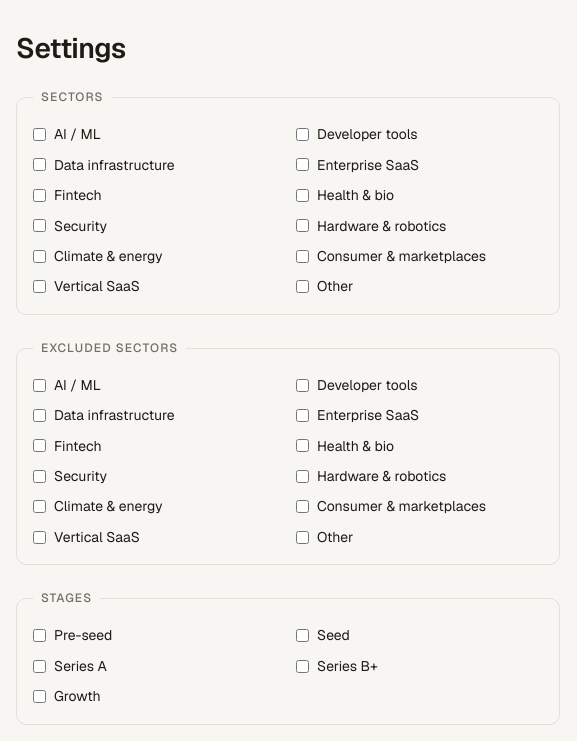
Scenario: Settings › saves the form via PUT /api/user-profile and shows a confirmation
Expected: the checkbox labelled "Seed" is shown, [296, 629, 309, 642]
Click the 1st checkbox labelled "Fintech".
click(40, 195)  # box [33, 189, 46, 202]
(page scrolled)
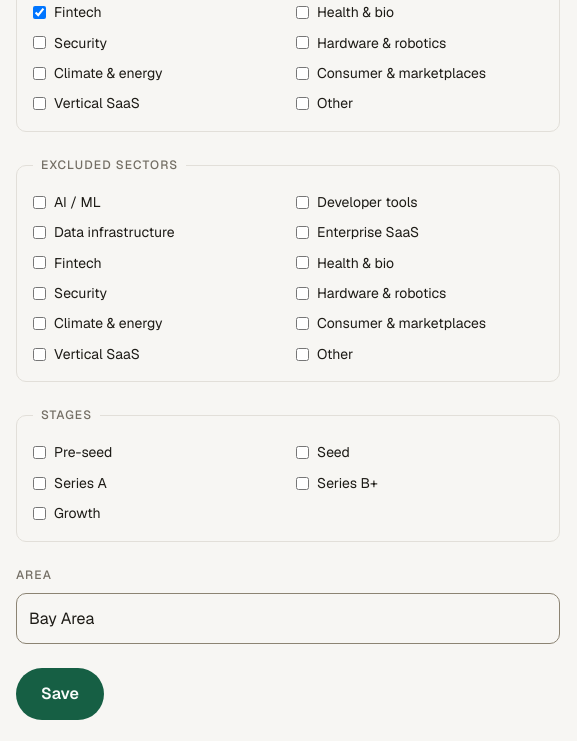
Click the button "Save".
click(60, 694)  # box [16, 668, 104, 720]
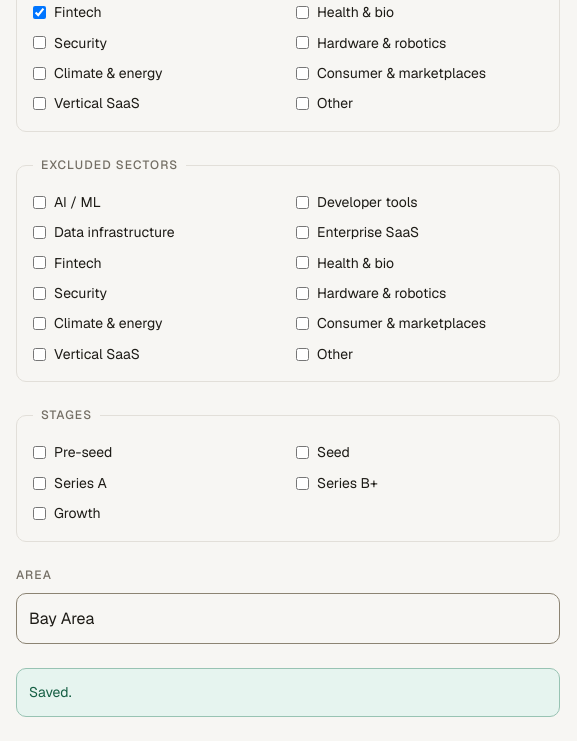
Now the message reads "Saved.", box [29, 683, 72, 701]
